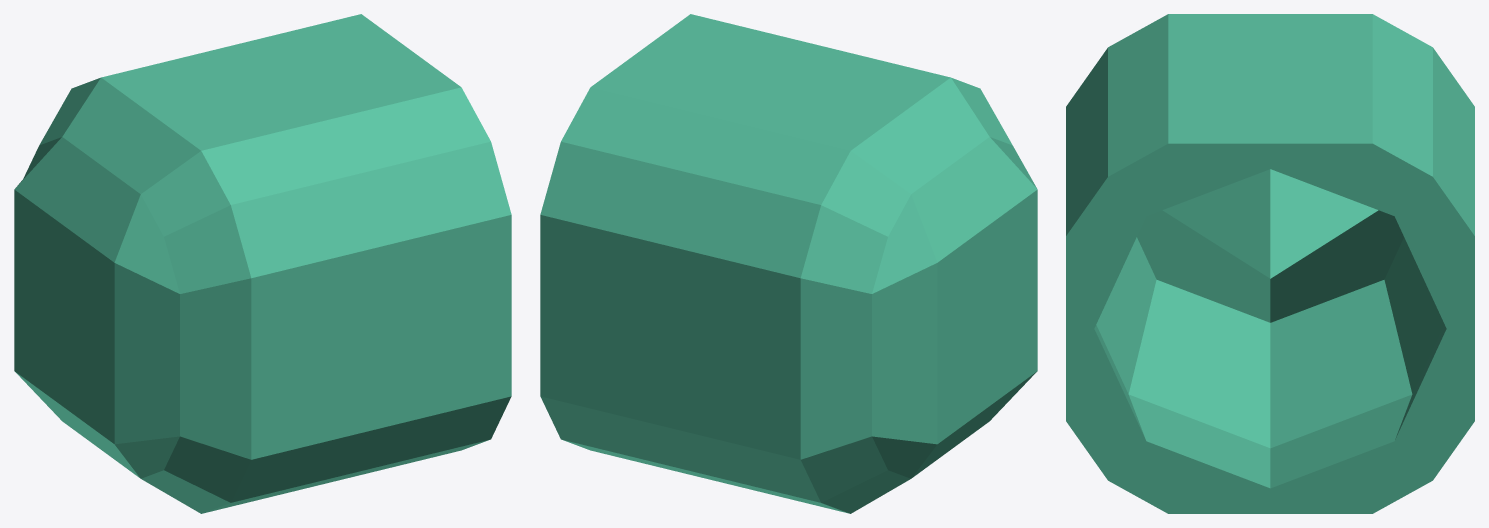
The model's file is canon.fbx.
3 renders of one model, left to right at view 1: azimuth 30°, elevation 25°; view 2: azimuth 150°, elevation 25°; view 3: azimuth 270°, elevation 25°, orthographic. The views are drawn at different scales.
Parts seen in each view (by area): view 1: pCube1; view 2: pCube1; view 3: pCube1.
Part boxes in pixels (<box>): pCube1: <box>14,14,511,513</box>; pCube1: <box>540,14,1037,513</box>; pCube1: <box>1066,14,1474,513</box>.
Size of the model in its own units: 2.06 by 2.06 by 2.06.
